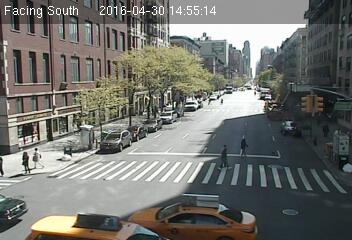pos: (215, 142, 237, 170), (13, 147, 34, 175), (33, 144, 51, 168), (237, 134, 254, 157)
